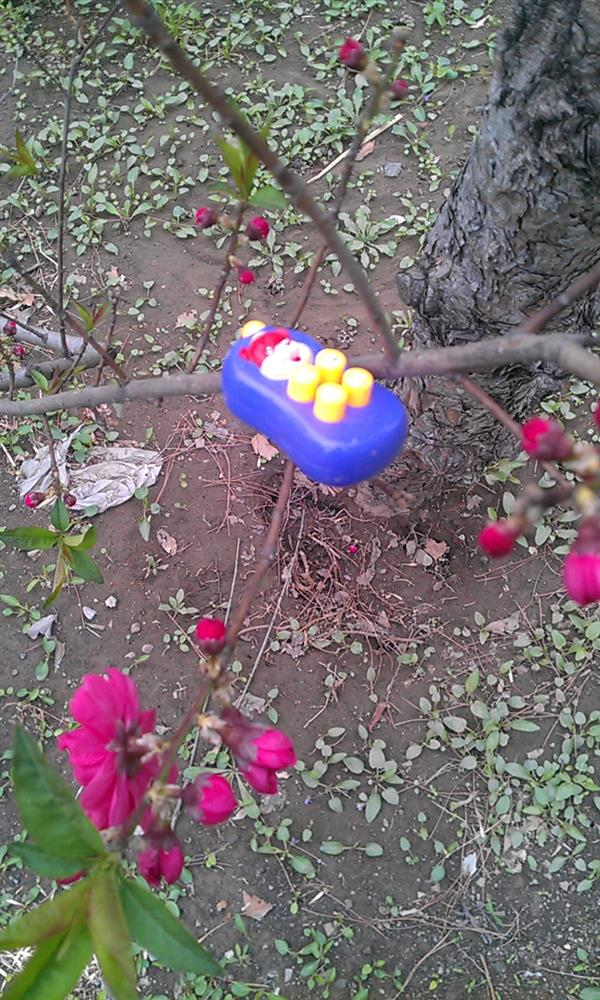toy_phone: (209, 308, 416, 494)
